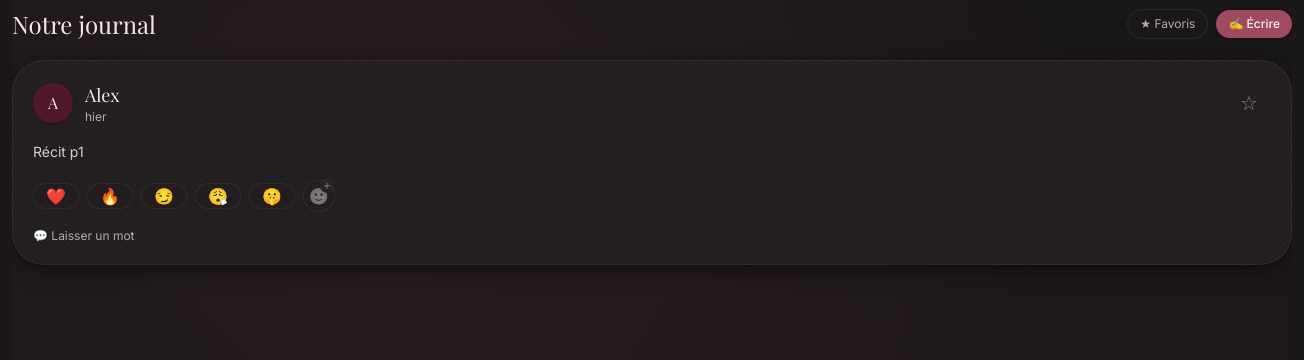
Test: BlogScreen › filtre Favoris : message dédié quand aucun favori
This screenshot has width=1304, height=360.
Click the button "★ Favoris" at (1168, 24), box [1127,9,1208,39]
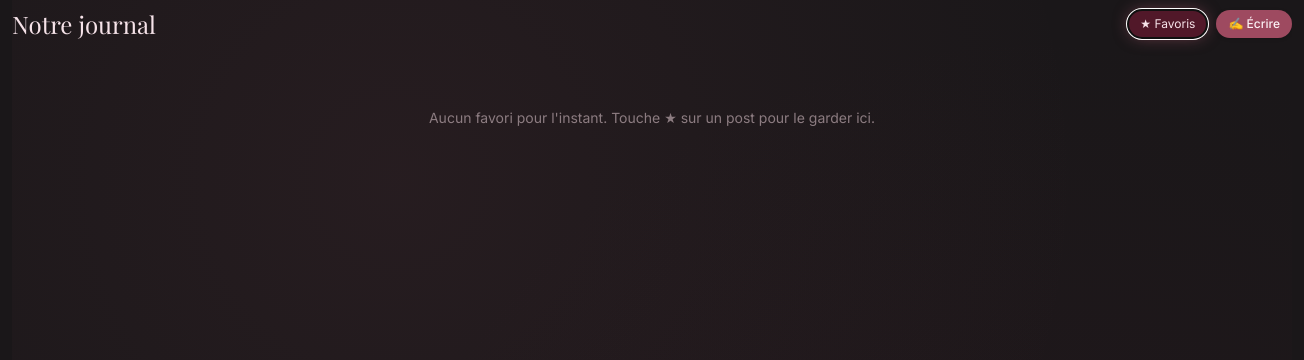
Expected: the text "Aucun favori pour l'instant" is shown, [429,109,875,126]
